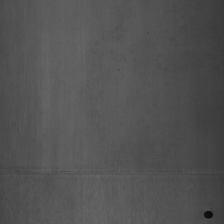welding_line: (2, 166, 224, 183), (202, 204, 216, 222)
